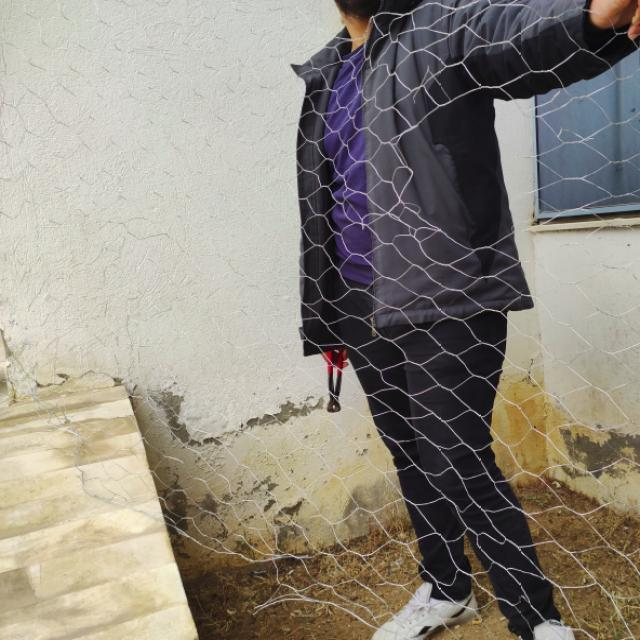fence line: (9, 409, 354, 632), (391, 85, 543, 265)
